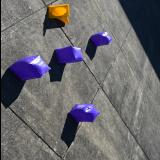cone: (48, 4, 68, 24)
cube: (8, 55, 50, 81), (68, 104, 99, 122), (54, 46, 83, 64), (88, 31, 112, 47)
